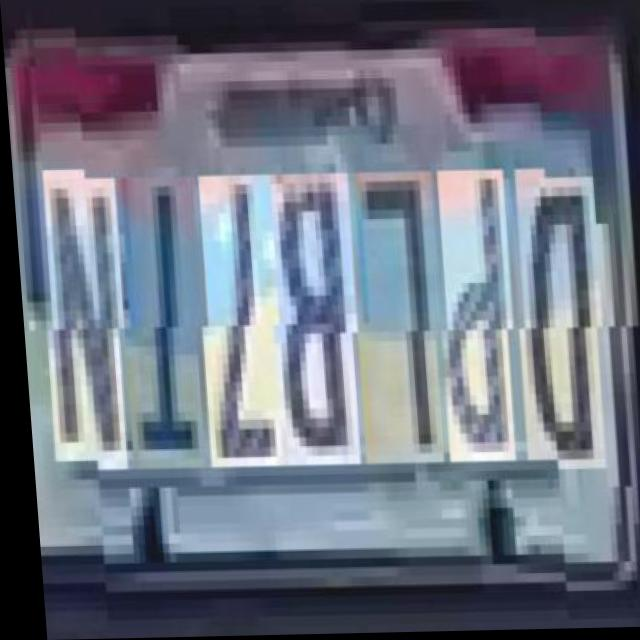7: (187, 176, 278, 468)
b: (259, 175, 355, 467)
d: (503, 171, 600, 463)
l: (342, 173, 439, 466)
n: (31, 179, 122, 471)
p: (426, 172, 511, 464)
t: (109, 177, 200, 470)
